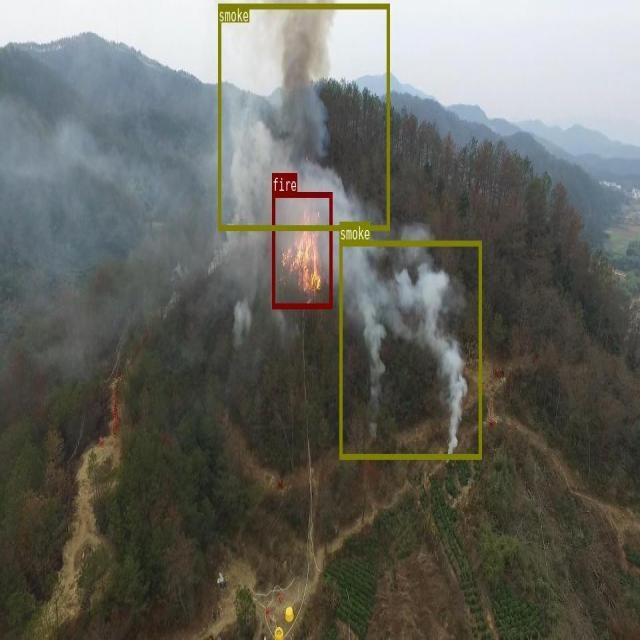fire: (272, 191, 332, 308)
smoke: (218, 3, 389, 230), (339, 240, 481, 458)
